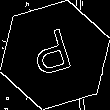P_S: (30, 25, 80, 85)
